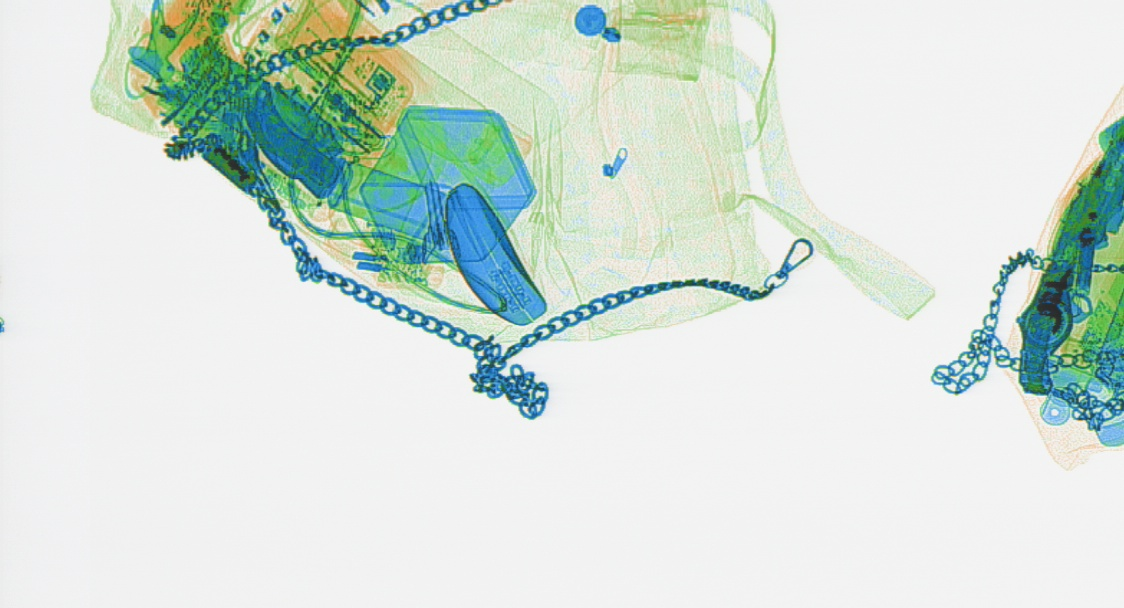knife: (1015, 131, 1119, 396), (245, 82, 349, 203)
pressure: (274, 1, 532, 195)
